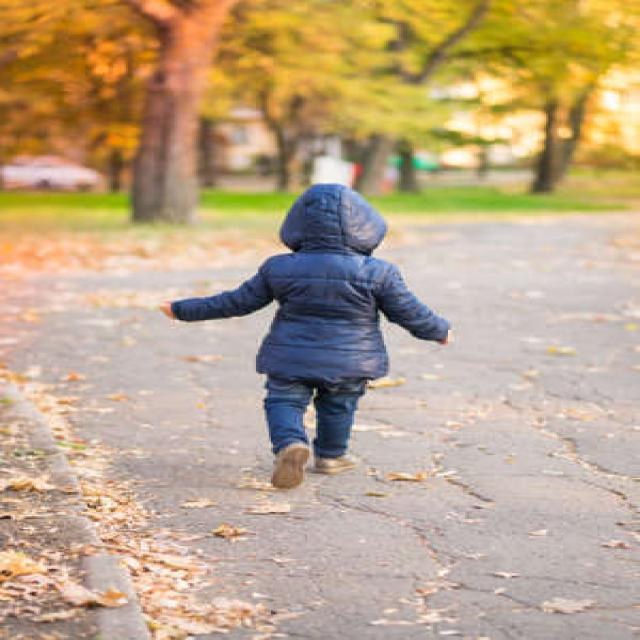Person: (159, 181, 452, 487)
